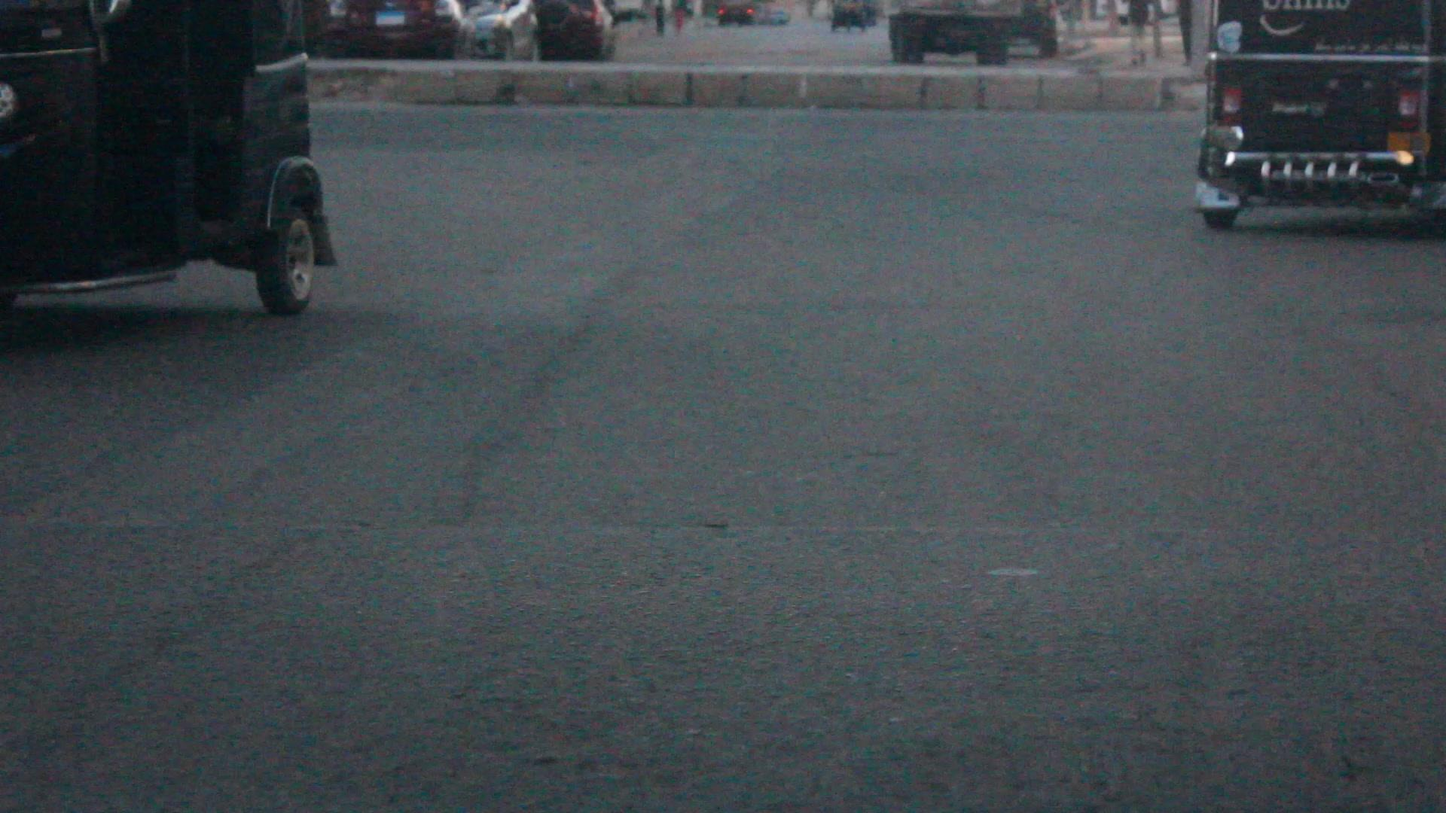Bump: (0, 502, 1446, 813)
